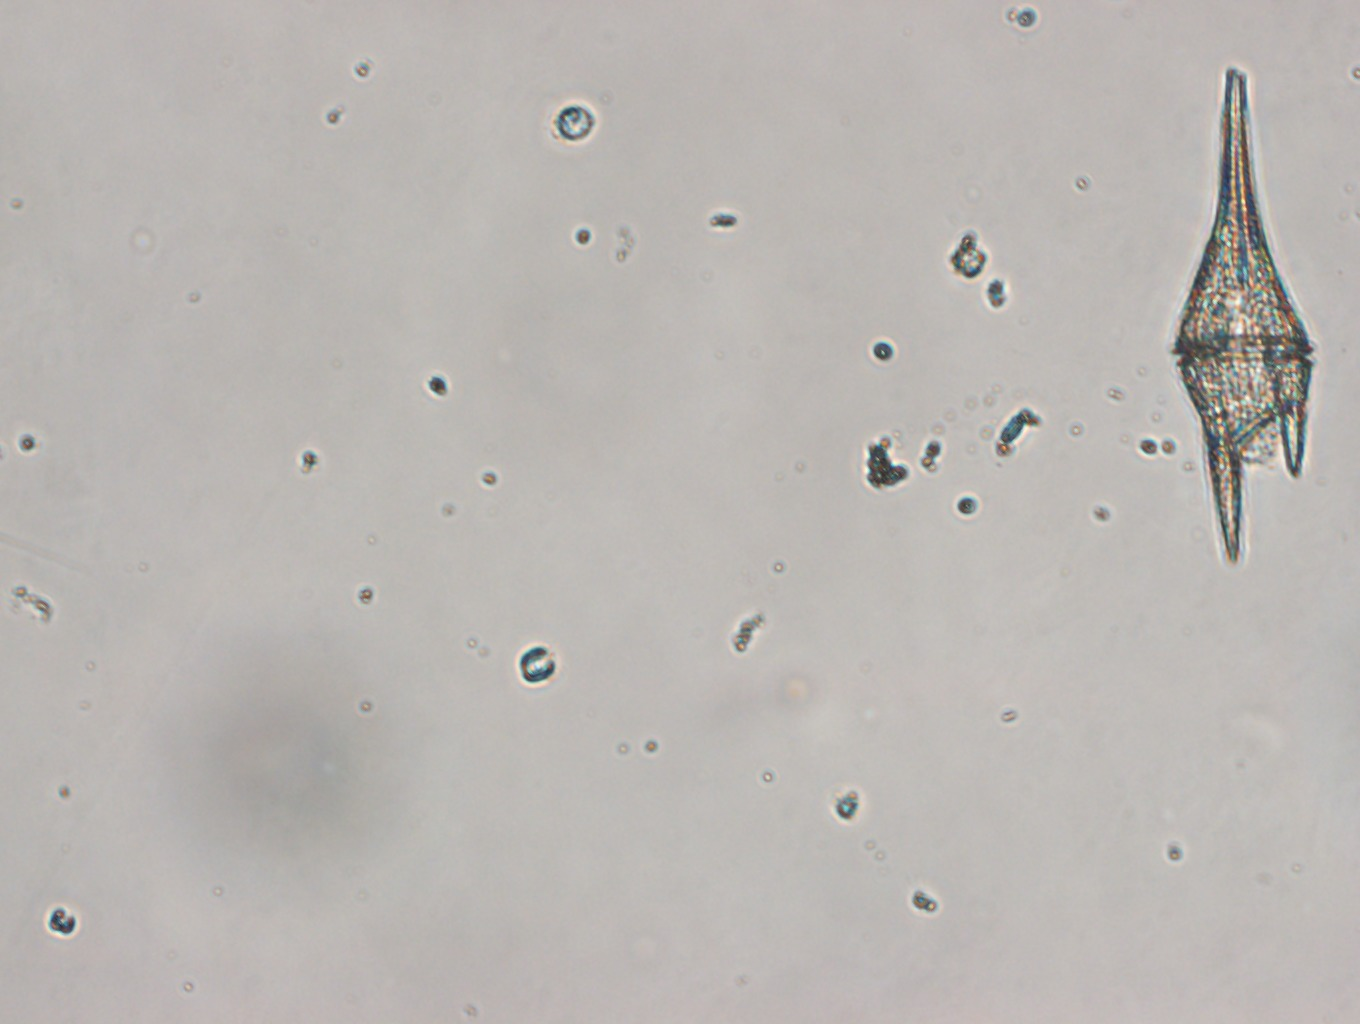ceratium furca: (1173, 67, 1318, 565)
